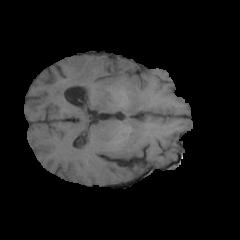glioma: (53, 56, 148, 112)
